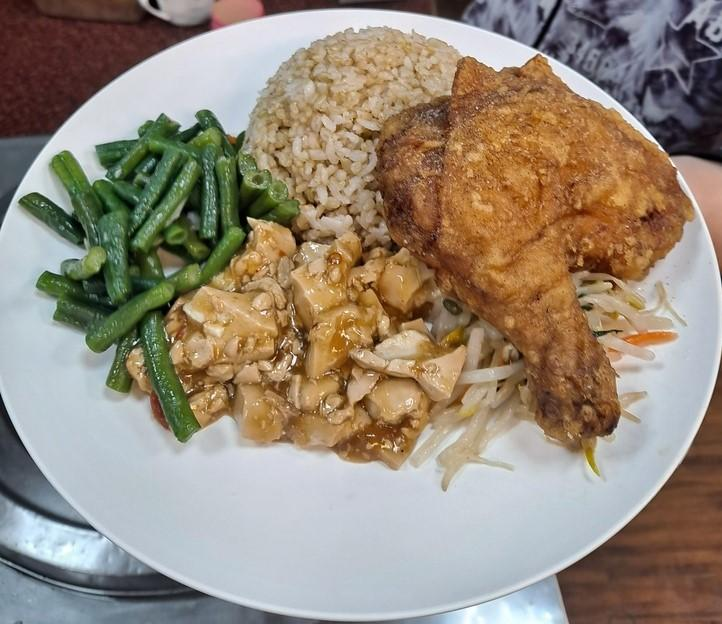big fried chicken leg: (1, 10, 722, 623)
box: (246, 27, 465, 237)
braised fish fillet: (25, 113, 298, 436), (138, 216, 439, 461), (431, 272, 670, 476)
brown rice: (375, 58, 687, 449)
